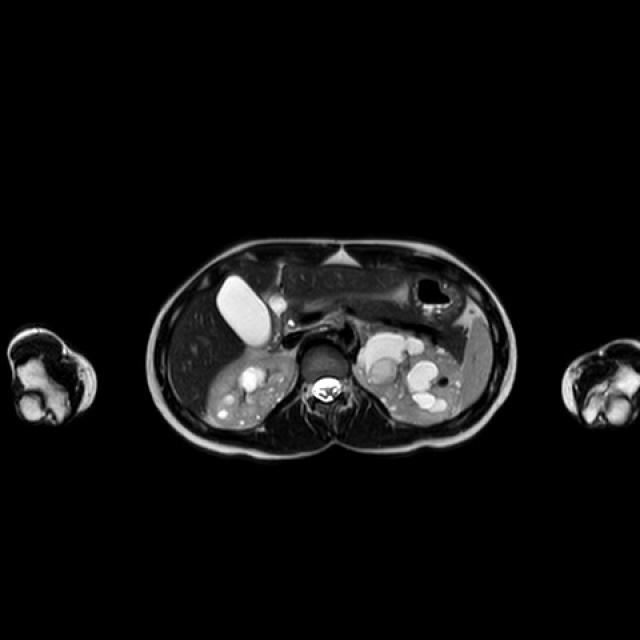sag: (209, 351, 296, 430)
sol: (351, 329, 465, 424)
